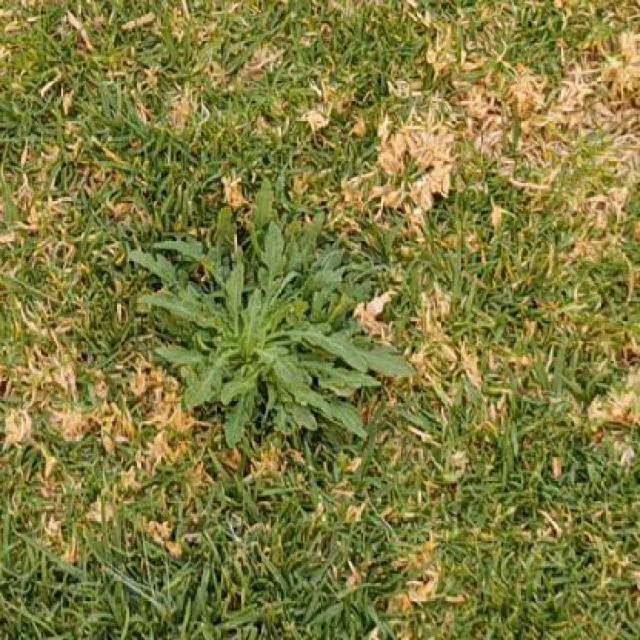weed: (131, 185, 412, 445)
